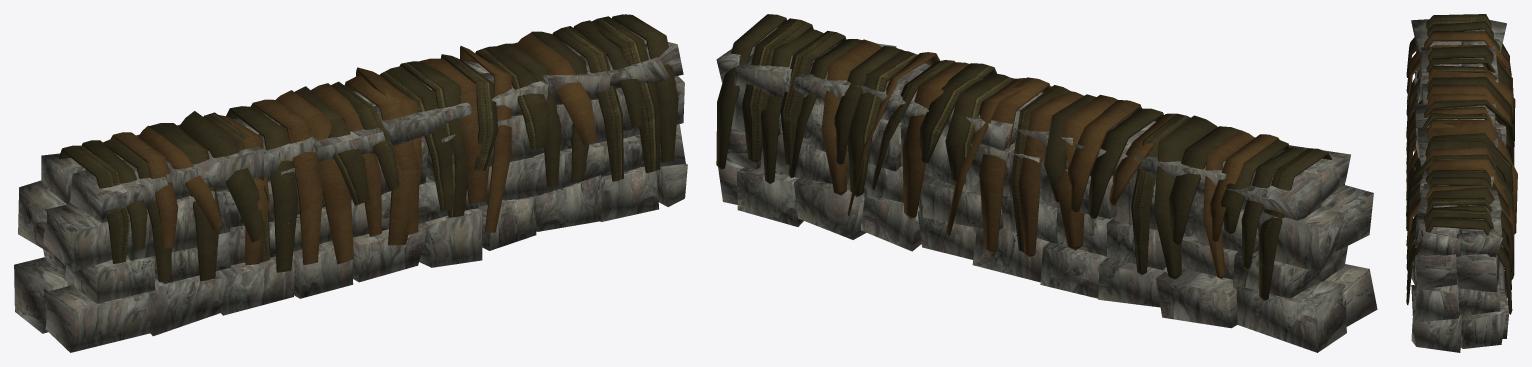
The model's file is kit_sf_kelp_rick_p.glb.
3 views of the same model, side by side, from view 1: azimuth 30°, elevation 25°; view 2: azimuth 150°, elevation 25°; view 3: azimuth 270°, elevation 25° (orthographic). The views are drawn at different scales.
Parts seen in each view (by area): view 1: kit_sf_kelp_rick_p; view 2: kit_sf_kelp_rick_p; view 3: kit_sf_kelp_rick_p.
Part boxes in pixels (<box>): kit_sf_kelp_rick_p: <box>14,14,687,352</box>; kit_sf_kelp_rick_p: <box>716,14,1377,352</box>; kit_sf_kelp_rick_p: <box>1406,14,1517,352</box>.
Bounding box in the file's own units: 3.17 × 0.8429 × 0.6527.
1 material, 1 textured.
